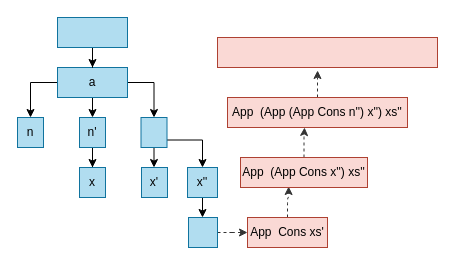
This 455x265 diagram has some shape labels left out. The box of each missing label's shape, as (x1, y1, x2, y2) in pixels:
App (App (App (App Cons a) n'') x'') xs'': (216, 36, 438, 68)
Cons: (56, 16, 128, 48)
n'': (140, 116, 167, 148)
xs': (188, 216, 218, 248)
